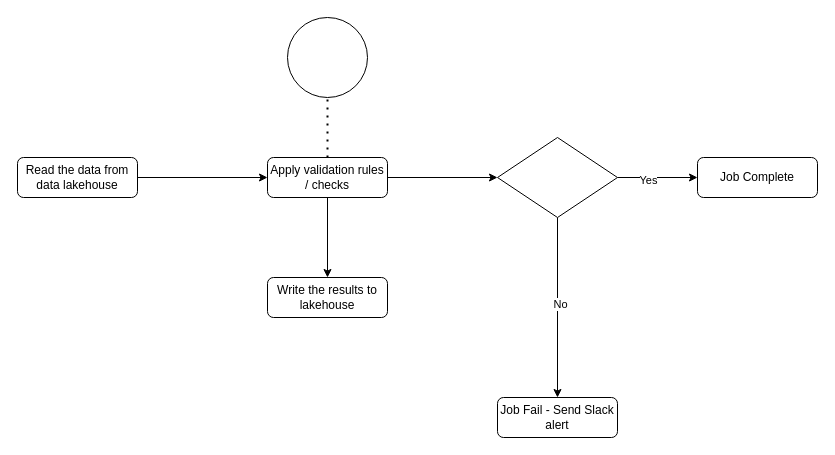
Image size: 835x455. Some labels were removed from this diagram. Each missing label, with the centre of its shape:
Checks Passed: point 557,177
Parse the Config: point 327,57
